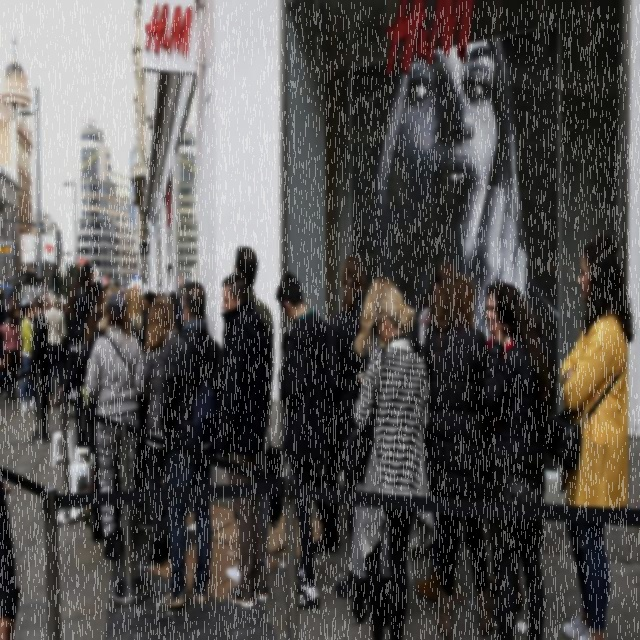pessoa: (350, 282, 432, 640), (561, 233, 629, 640), (420, 266, 494, 636), (156, 278, 226, 612), (272, 270, 338, 612), (209, 268, 273, 610), (394, 56, 497, 246), (81, 291, 148, 563), (350, 275, 398, 627), (232, 243, 278, 575), (320, 251, 368, 558), (416, 259, 458, 606), (82, 284, 135, 541), (138, 296, 180, 568), (124, 286, 150, 496), (66, 260, 94, 448), (27, 293, 52, 445), (0, 469, 21, 639), (42, 290, 68, 410), (480, 278, 514, 358), (484, 278, 514, 360), (20, 303, 36, 414), (84, 304, 105, 344), (165, 289, 182, 330), (331, 577, 348, 604), (8, 304, 22, 334), (38, 278, 56, 294), (142, 288, 155, 310), (60, 273, 74, 292), (6, 288, 18, 310), (57, 292, 69, 312), (41, 295, 50, 317), (178, 270, 184, 294), (156, 291, 166, 300), (138, 284, 144, 294)
